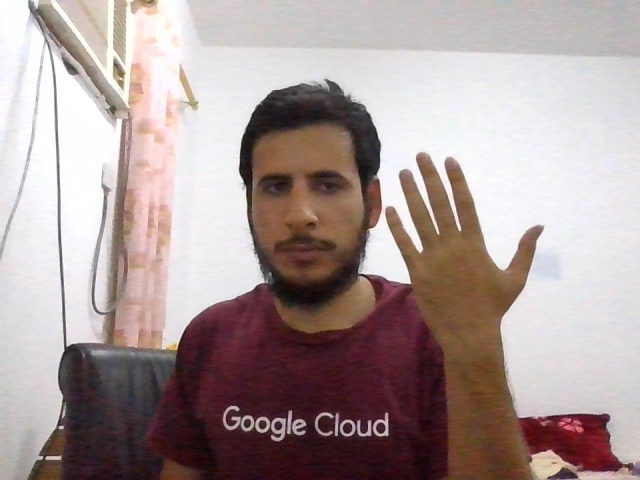Five: (385, 153, 545, 327)
